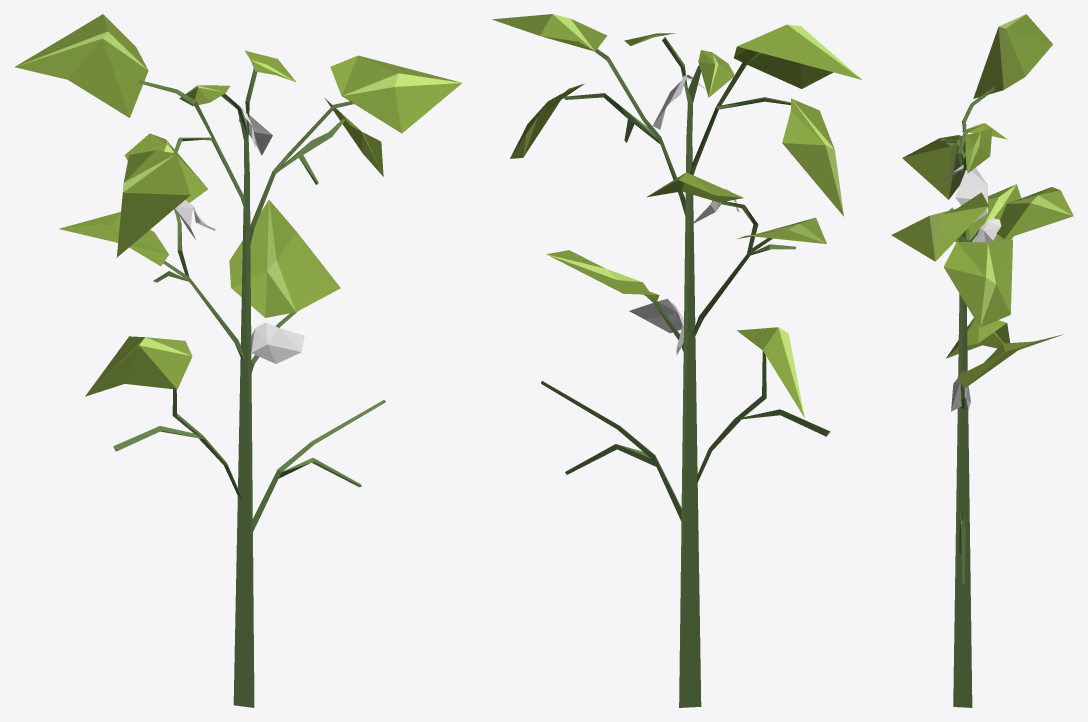
Rendered from Beans_5.fbx.
3 renders of one model, left to right at view 1: azimuth 30°, elevation 25°; view 2: azimuth 150°, elevation 25°; view 3: azimuth 270°, elevation 25°, orthographic. The views are drawn at different scales.
Visible parts, largest first — view 1: Beans_8; view 2: Beans_8; view 3: Beans_8.
Part boxes in pixels (x1,y1,x2,y2): Beans_8: [14, 14, 461, 707]; Beans_8: [492, 14, 861, 707]; Beans_8: [891, 14, 1073, 707].
Size of the model in its own units: 59.2 by 97.14 by 25.71.
